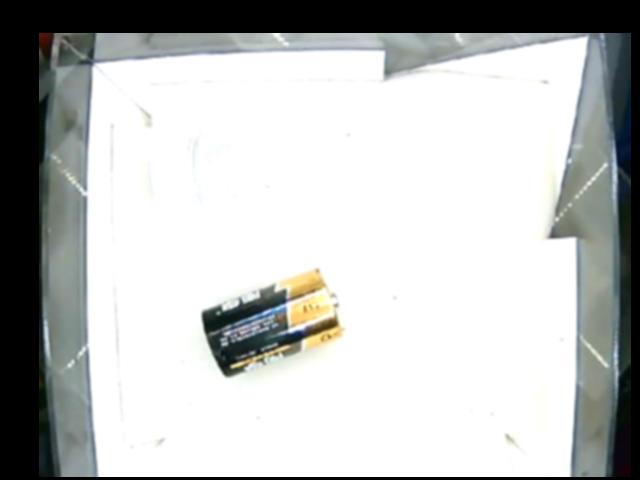Battery: (199, 268, 345, 378)
Bottle: (147, 113, 341, 217)
